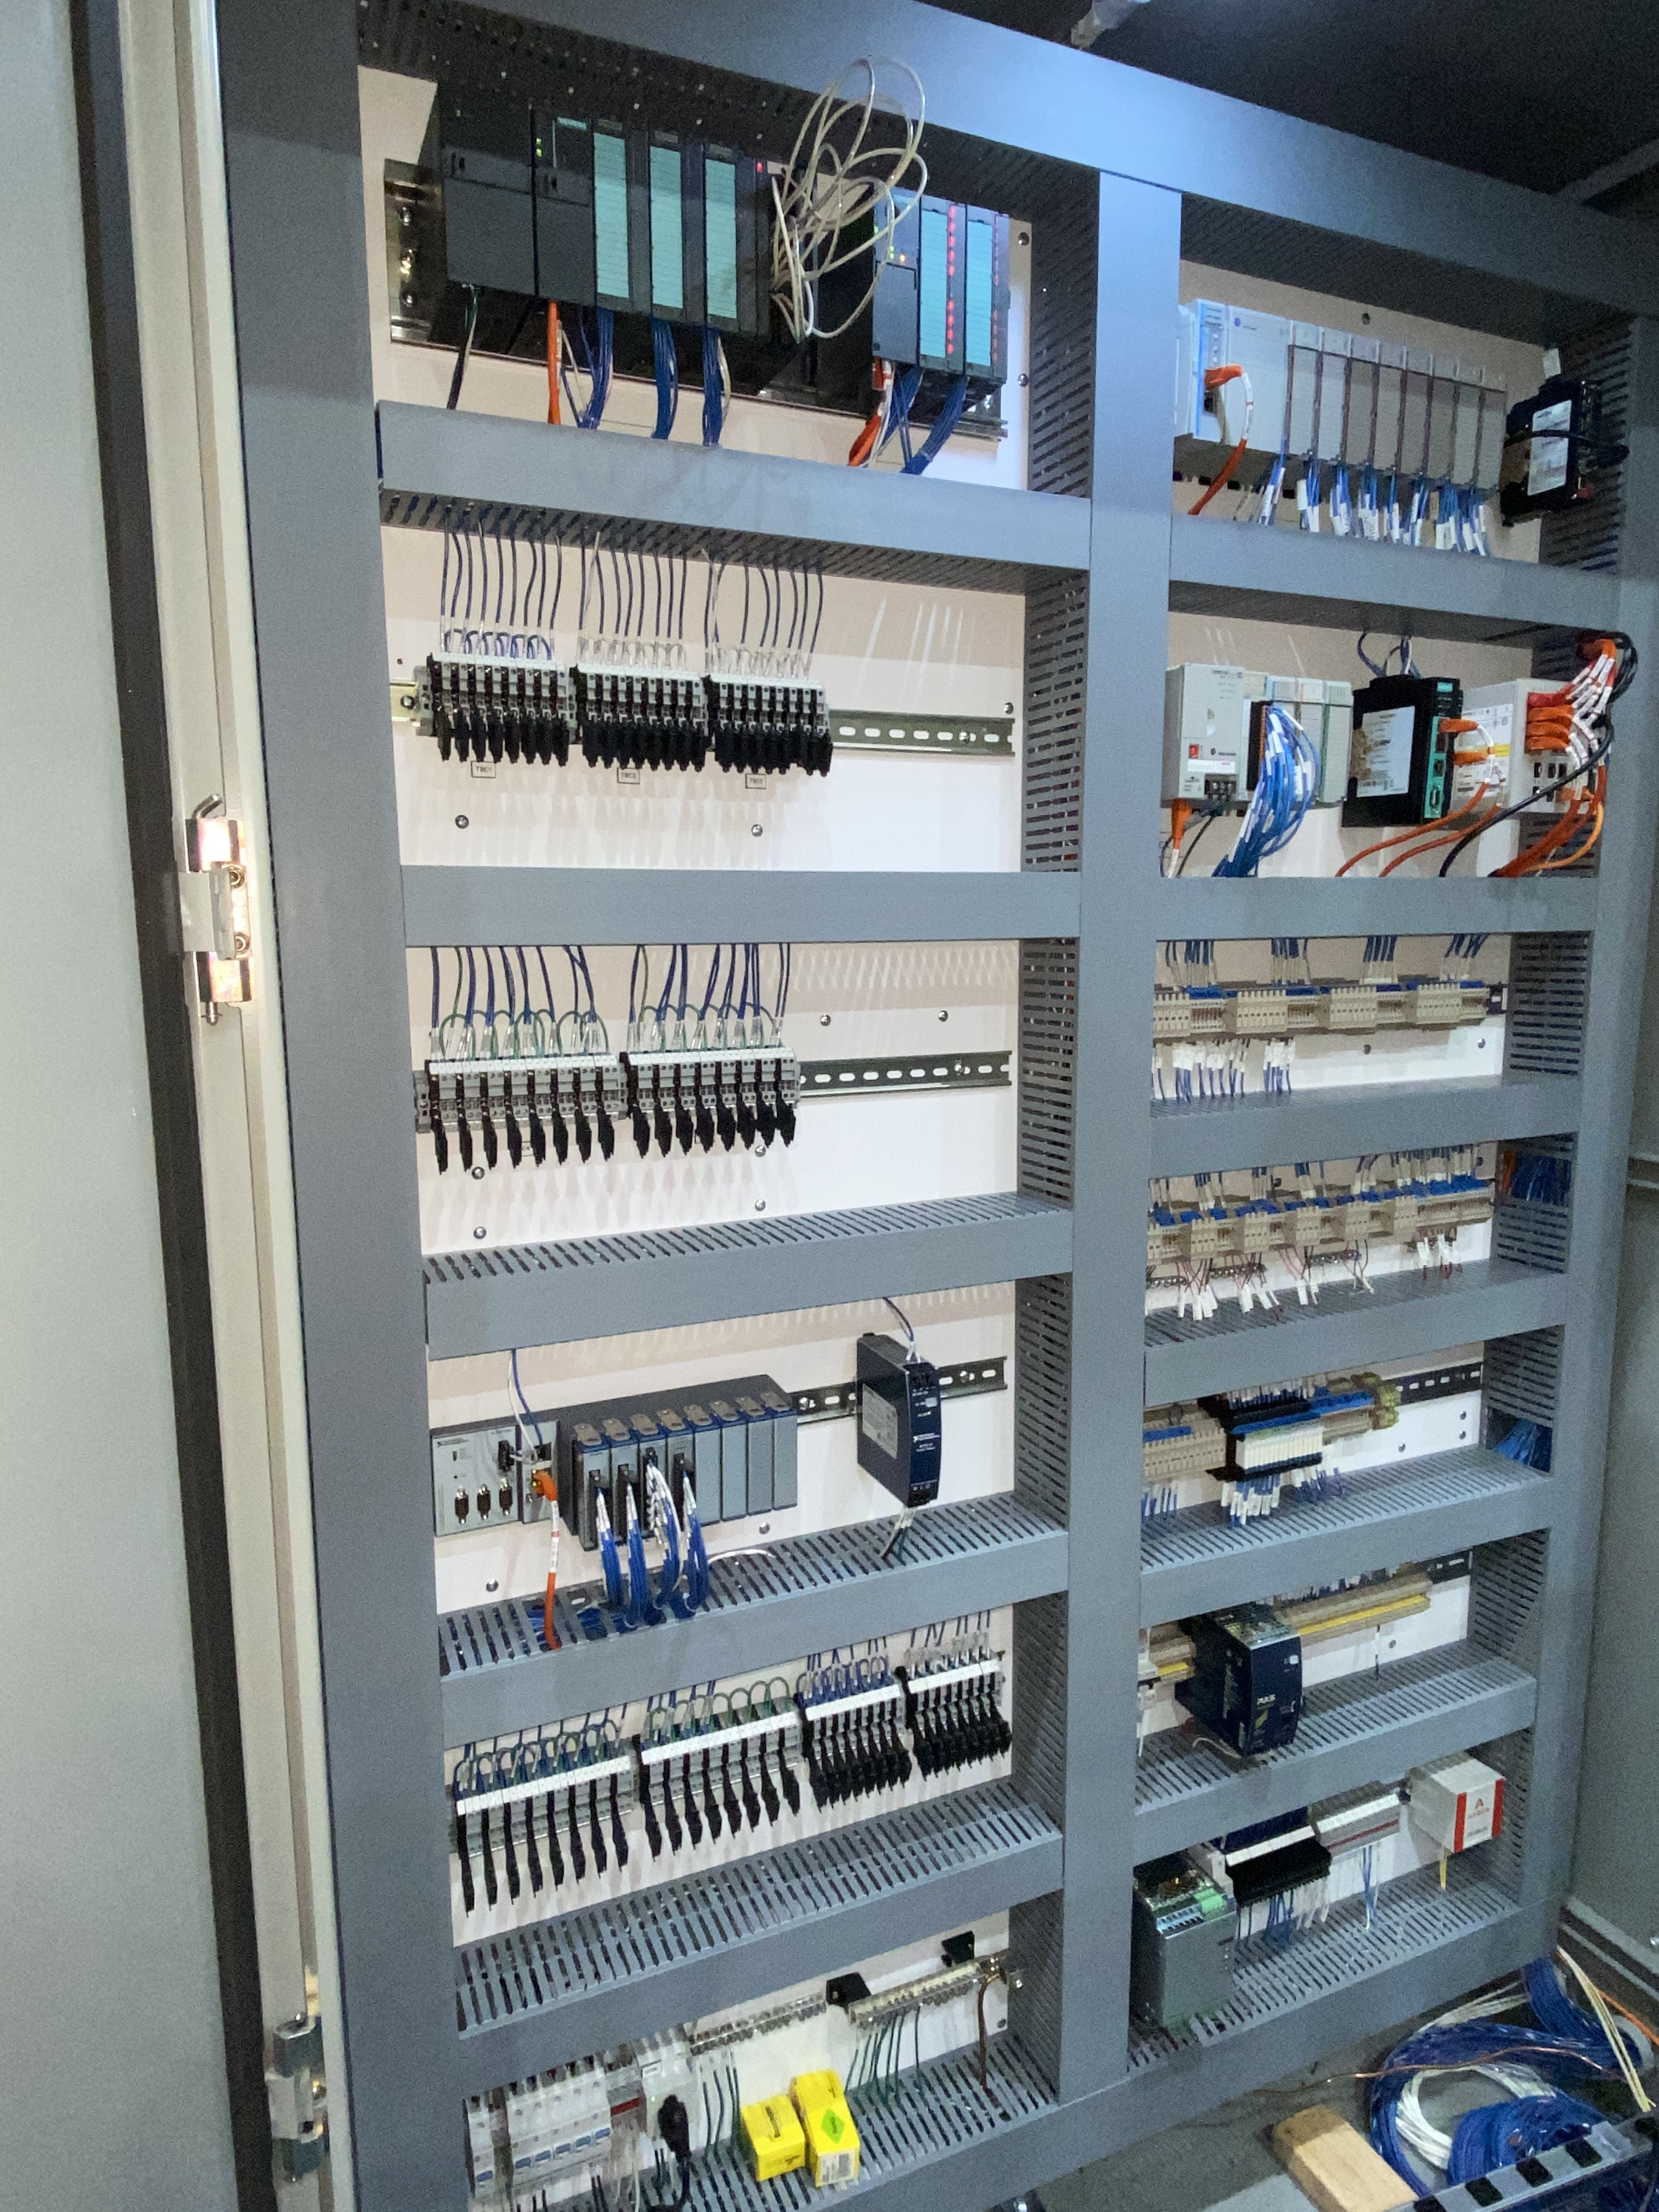AllenBradley: (1182, 662, 1244, 810)
Siemens: (530, 105, 599, 312)
